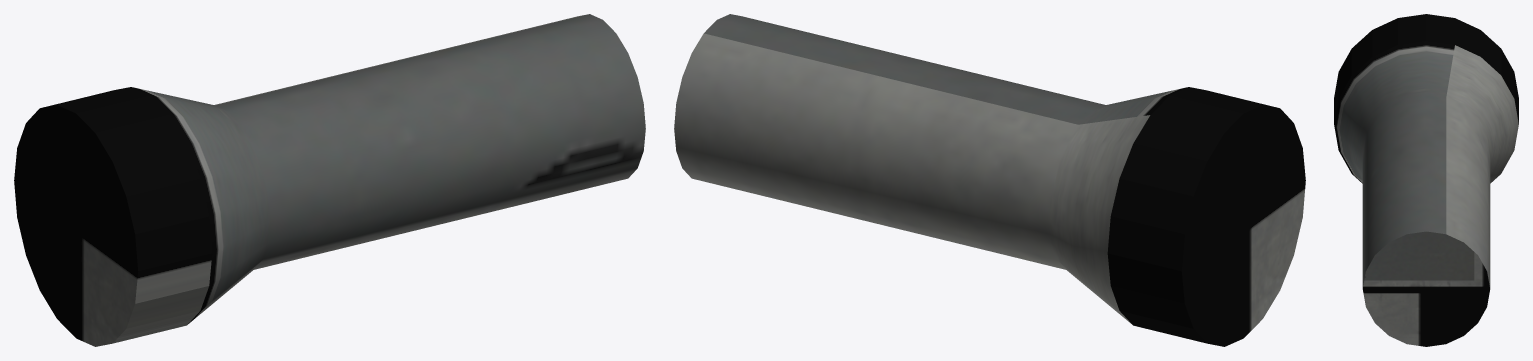
File: Torch.fbx
3 renders of one model, left to right at view 1: azimuth 30°, elevation 25°; view 2: azimuth 150°, elevation 25°; view 3: azimuth 270°, elevation 25°, orthographic. The views are drawn at different scales.
Visible parts, largest first — view 1: Torch; view 2: Torch; view 3: Torch.
Boxes of the visible parts, box(x1,y1,x2,y2) form: Torch: box(14, 14, 645, 346); Torch: box(674, 14, 1305, 346); Torch: box(1334, 14, 1518, 346).
Size of the model in its own units: 7.11 by 2.9 by 2.9.
1 material, 1 textured.
